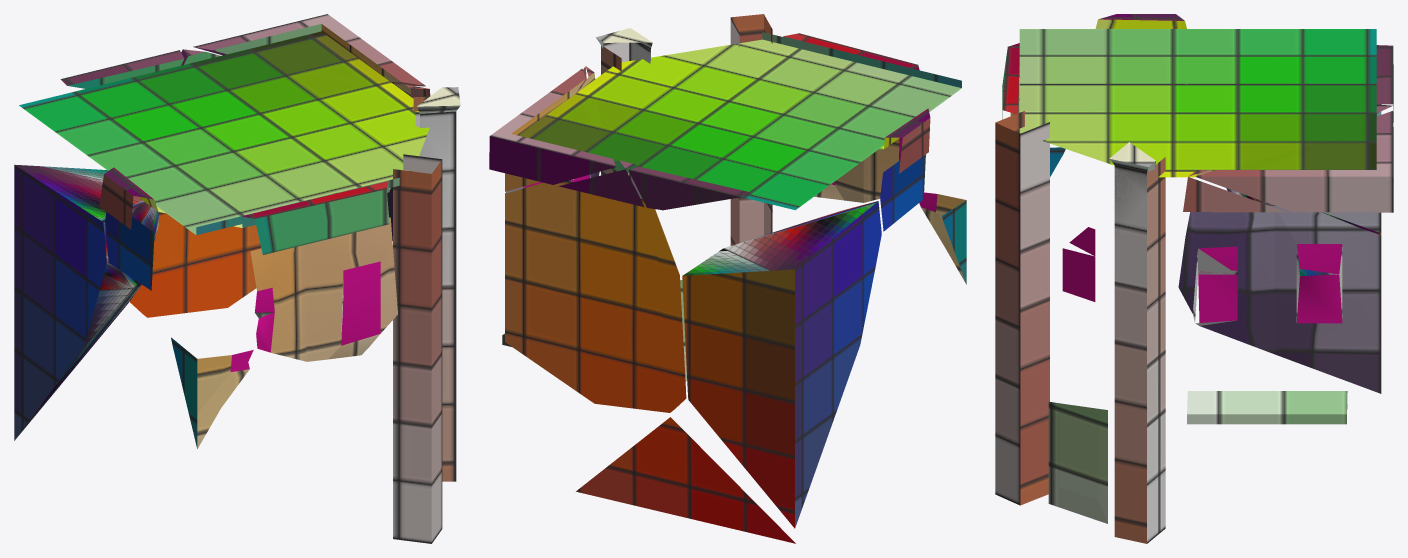
Rendered from BrokenBuilding4.fbx.
The picture shows the model from 3 angles, left to right: view 1: azimuth 30°, elevation 25°; view 2: azimuth 150°, elevation 25°; view 3: azimuth 270°, elevation 25°; orthographic projection. The views are drawn at different scales.
Parts seen in each view (by area): view 1: B4_cell.025, B4_cell.007, B4_cell.001, B4_cell.030, B4_cell.033, B4_cell.004, B4_cell.021, B4_cell.026, B4_cell.027, B4_cell.015, B4_cell.023, B4_cell.017 (+1 smaller); view 2: B4_cell.025, B4_cell.007, B4_cell.004, B4_cell.009, B4_cell.027, B4_cell.017, B4_cell.030, B4_cell.028, B4_cell.021, B4_cell.001, B4_cell.015, B4_cell.023 (+2 smaller); view 3: B4_cell.025, B4_cell.004, B4_cell.026, B4_cell.030, B4_cell.032, B4_cell.033, B4_cell.027, B4_cell.016, B4_cell.031, B4_cell.028, B4_cell.021, B4_cell.008 (+3 smaller).
Part boxes in pixels (x1,y1,x2,y2): B4_cell.025: [19, 54, 429, 235]; B4_cell.007: [14, 164, 158, 440]; B4_cell.001: [250, 217, 397, 361]; B4_cell.030: [393, 154, 442, 543]; B4_cell.033: [393, 154, 442, 543]; B4_cell.004: [130, 187, 392, 317]; B4_cell.021: [99, 167, 390, 254]; B4_cell.026: [413, 87, 460, 481]; B4_cell.027: [193, 14, 425, 86]; B4_cell.015: [171, 337, 253, 448]; B4_cell.023: [105, 212, 154, 290]; B4_cell.017: [60, 50, 184, 88]; B4_cell.025: [576, 32, 961, 210]; B4_cell.007: [682, 201, 881, 528]; B4_cell.004: [505, 172, 686, 412]; B4_cell.009: [576, 417, 795, 543]; B4_cell.027: [489, 69, 615, 184]; B4_cell.017: [628, 166, 749, 210]; B4_cell.030: [730, 14, 772, 245]; B4_cell.028: [559, 66, 644, 207]; B4_cell.021: [783, 33, 930, 173]; B4_cell.001: [814, 137, 902, 202]; B4_cell.015: [919, 192, 966, 284]; B4_cell.023: [880, 154, 925, 231]; B4_cell.025: [1019, 29, 1376, 177]; B4_cell.004: [1178, 206, 1381, 393]; B4_cell.026: [1109, 142, 1160, 543]; B4_cell.030: [995, 111, 1049, 504]; B4_cell.032: [1114, 157, 1165, 543]; B4_cell.033: [995, 112, 1049, 505]; B4_cell.027: [1195, 111, 1393, 212]; B4_cell.016: [1048, 401, 1107, 523]; B4_cell.031: [1187, 391, 1347, 424]; B4_cell.028: [1183, 104, 1393, 212]; B4_cell.021: [1002, 14, 1186, 119]; B4_cell.008: [1062, 227, 1095, 301].
Bounding box in the file's own units: 29.69 × 31.29 × 29.81.
